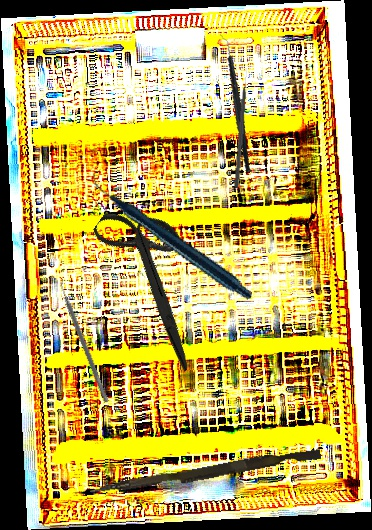Chopper: (193, 34, 276, 173)
Handpiece: (90, 137, 254, 334)
Iris Scissors: (56, 190, 250, 373)
Pusher: (89, 442, 322, 504), (233, 67, 251, 189)
Spatula Surgical: (55, 278, 115, 403)
